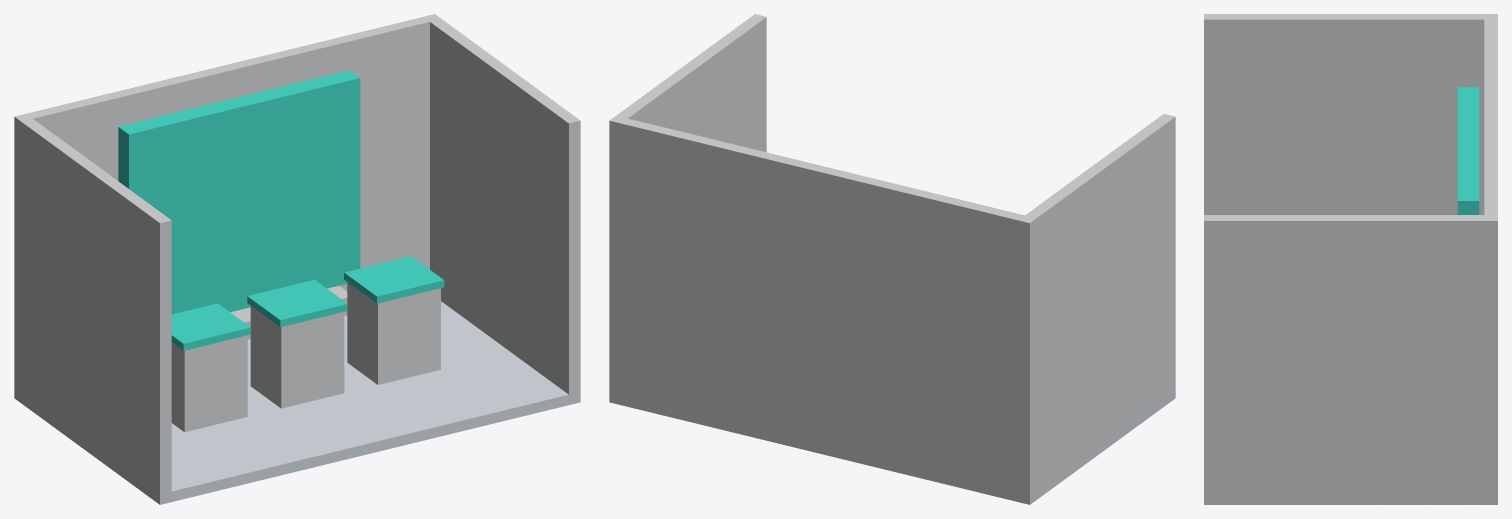
3 views of the same model, side by side, from view 1: azimuth 30°, elevation 25°; view 2: azimuth 150°, elevation 25°; view 3: azimuth 270°, elevation 25° (orthographic).
Parts seen in each view (by area): view 1: Exhibition Booth Concept; view 2: Exhibition Booth Concept; view 3: Exhibition Booth Concept.
Part boxes in pixels (x1,y1,x2,y2): Exhibition Booth Concept: [14, 14, 580, 504]; Exhibition Booth Concept: [609, 14, 1175, 504]; Exhibition Booth Concept: [1204, 14, 1497, 504].
Size of the model in its own units: 5 by 3.2 by 3.
